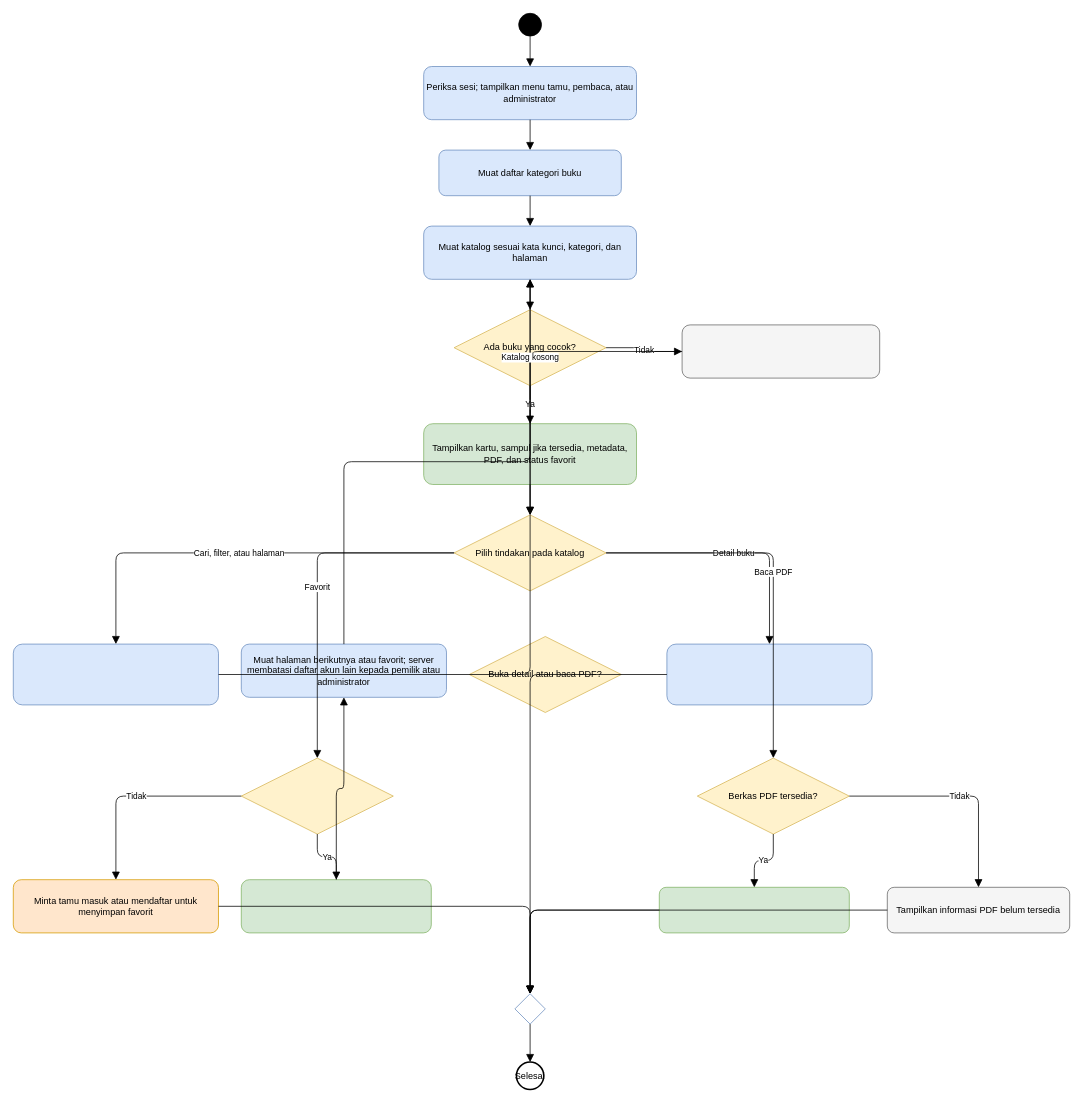
The diagram is 1083 pixels wide and 1104 high, and some of its shapes have lost their labels. The box of each missing label's shape, as (x1, y1, x2, y2) in pixels:
Ambil detail buku dan status favorit; catat aktivitas pembaca yang masuk: (666, 643, 872, 705)
Buka PDF secara inline dan catat pembacaan: (659, 887, 849, 933)
Cari judul, penulis, penerbit, atau ISBN; pilih kategori dan halaman: (13, 643, 218, 705)
Pengguna sudah masuk?: (241, 757, 393, 834)
Tambahkan atau hapus favorit; catat perubahan: (241, 879, 431, 933)
Tampilkan hasil kosong dan saran ubah kata kunci atau kategori: (681, 324, 880, 378)
